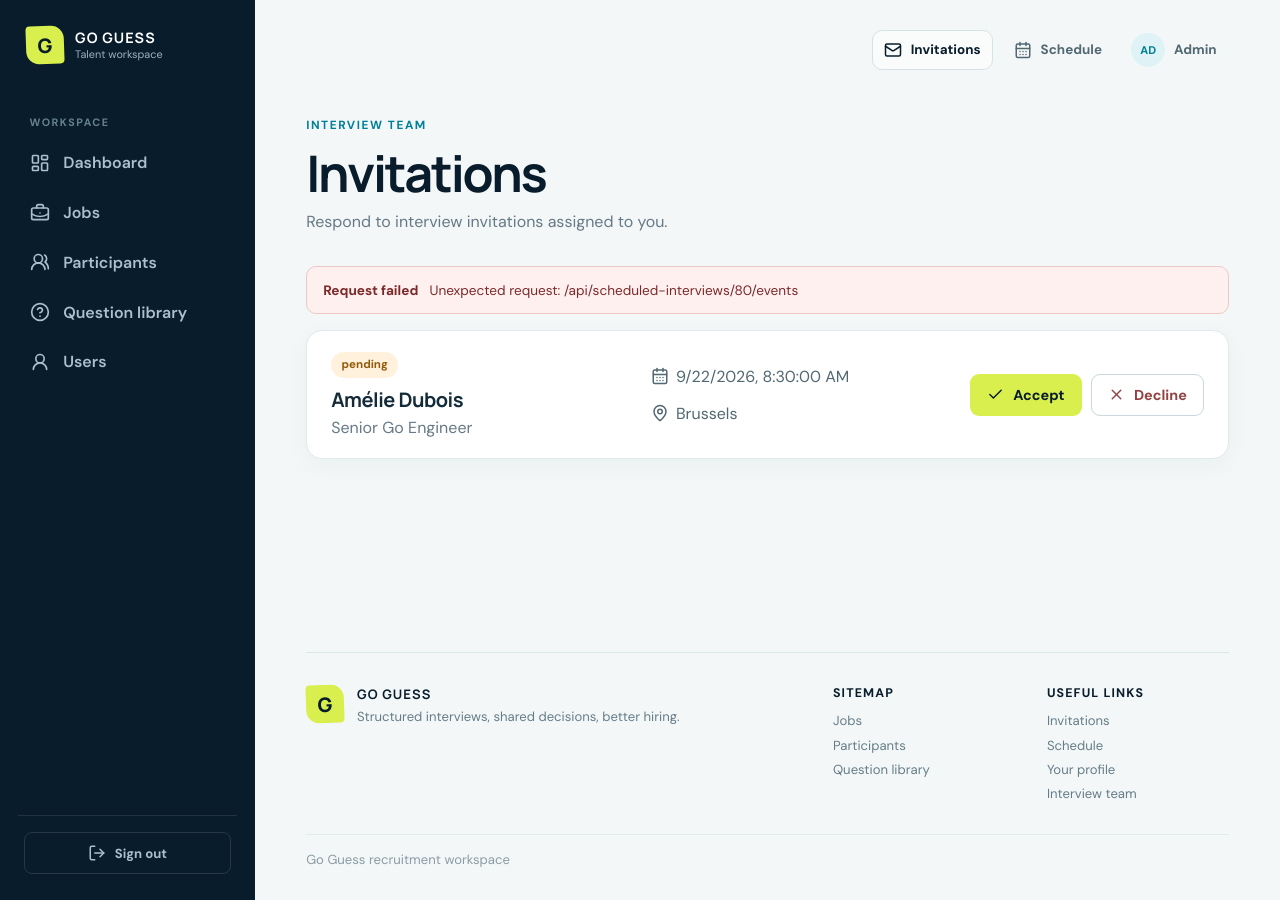
Test: Go Guess frontend › updates an invitation card through its entity-scoped event
The image size is (1280, 900).
Click the button "Accept". click: (1026, 395)
box: [970,374,1082,416]
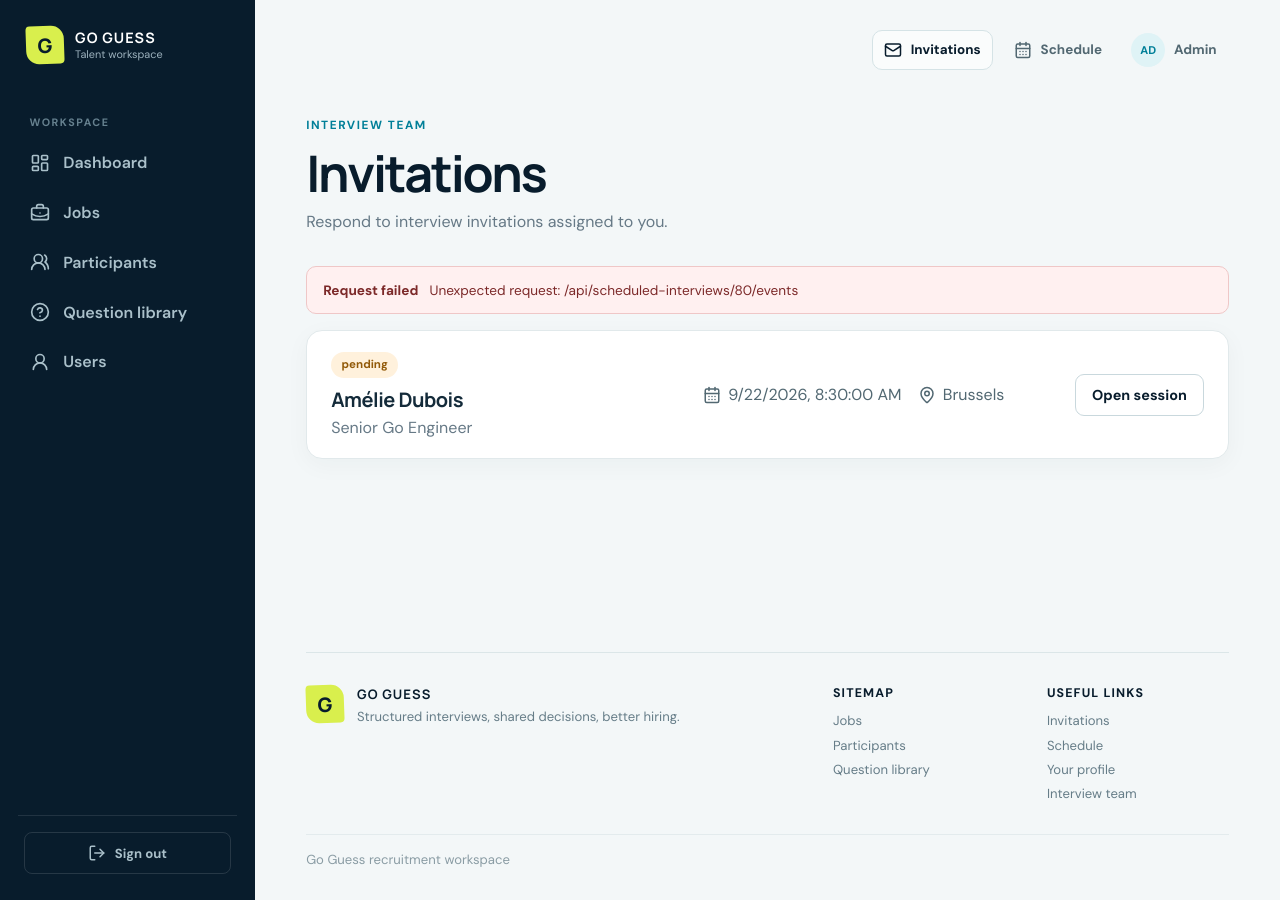
Check: the link "Open session" is shown, box [1075,374,1204,416]
Check: the button "Accept" is gone
